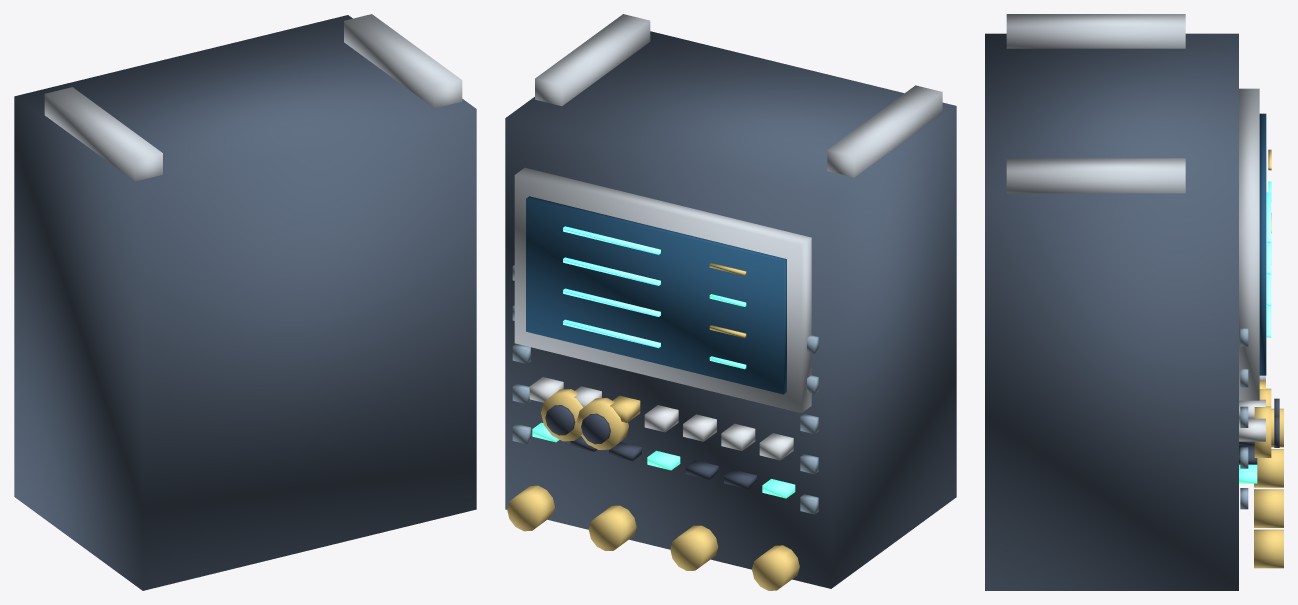
Rendered from L85_46_PrecisionFlightTimeReferenceClock_Fitted.fbx.
3 renders of one model, left to right at view 1: azimuth 30°, elevation 25°; view 2: azimuth 150°, elevation 25°; view 3: azimuth 270°, elevation 25°, orthographic. The views are drawn at different scales.
Visible parts, largest first — view 1: L85_PrecisionFlightTimeReferenceClock_Static__tint1A2434, L85_PrecisionFlightTimeReferenceClock_Static__tintA8B8C7; view 2: L85_PrecisionFlightTimeReferenceClock_Static__tint1A2434, L85_PrecisionFlightTimeReferenceClock_Static__tint071C3B, L85_PrecisionFlightTimeReferenceClock_Static__tintA8B8C7, L85_PrecisionFlightTimeReferenceClock_Static__tintF7B83D, L85_PrecisionFlightTimeReferenceClock_Static__tintCCD9E3, L85_PrecisionFlightTimeReferenceClock_Static__tint111724, L85_PrecisionFlightTimeReferenceClock_Static__tint2ED9FA, L85_PrecisionFlightTimeReferenceClock_Static__tint527391, L85_PrecisionFlightTimeReferenceClock_Static__tint24F09C; view 3: L85_PrecisionFlightTimeReferenceClock_Static__tint1A2434, L85_PrecisionFlightTimeReferenceClock_Static__tintA8B8C7, L85_PrecisionFlightTimeReferenceClock_Static__tintF7B83D, L85_PrecisionFlightTimeReferenceClock_Static__tint071C3B, L85_PrecisionFlightTimeReferenceClock_Static__tint527391, L85_PrecisionFlightTimeReferenceClock_Static__tintCCD9E3, L85_PrecisionFlightTimeReferenceClock_Static__tint2ED9FA, L85_PrecisionFlightTimeReferenceClock_Static__tint111724, L85_PrecisionFlightTimeReferenceClock_Static__tint24F09C.
Boxes of the visible parts, x1=… form: L85_PrecisionFlightTimeReferenceClock_Static__tint1A2434: x1=14, y1=15, x2=476, y2=590; L85_PrecisionFlightTimeReferenceClock_Static__tintA8B8C7: x1=44, y1=14, x2=462, y2=181; L85_PrecisionFlightTimeReferenceClock_Static__tint1A2434: x1=505, y1=31, x2=956, y2=588; L85_PrecisionFlightTimeReferenceClock_Static__tint071C3B: x1=526, y1=196, x2=786, y2=394; L85_PrecisionFlightTimeReferenceClock_Static__tintA8B8C7: x1=514, y1=14, x2=942, y2=413; L85_PrecisionFlightTimeReferenceClock_Static__tintF7B83D: x1=507, y1=263, x2=799, y2=590; L85_PrecisionFlightTimeReferenceClock_Static__tintCCD9E3: x1=529, y1=377, x2=793, y2=460; L85_PrecisionFlightTimeReferenceClock_Static__tint111724: x1=545, y1=405, x2=756, y2=488; L85_PrecisionFlightTimeReferenceClock_Static__tint2ED9FA: x1=563, y1=226, x2=660, y2=348; L85_PrecisionFlightTimeReferenceClock_Static__tint527391: x1=512, y1=265, x2=818, y2=514; L85_PrecisionFlightTimeReferenceClock_Static__tint24F09C: x1=532, y1=294, x2=795, y2=498; L85_PrecisionFlightTimeReferenceClock_Static__tint1A2434: x1=985, y1=33, x2=1238, y2=590; L85_PrecisionFlightTimeReferenceClock_Static__tintA8B8C7: x1=1006, y1=14, x2=1259, y2=400; L85_PrecisionFlightTimeReferenceClock_Static__tintF7B83D: x1=1254, y1=149, x2=1283, y2=568; L85_PrecisionFlightTimeReferenceClock_Static__tint071C3B: x1=1259, y1=113, x2=1266, y2=375; L85_PrecisionFlightTimeReferenceClock_Static__tint527391: x1=1240, y1=328, x2=1248, y2=509; L85_PrecisionFlightTimeReferenceClock_Static__tintCCD9E3: x1=1239, y1=375, x2=1265, y2=441; L85_PrecisionFlightTimeReferenceClock_Static__tint2ED9FA: x1=1266, y1=192, x2=1271, y2=337; L85_PrecisionFlightTimeReferenceClock_Static__tint111724: x1=1239, y1=398, x2=1279, y2=464; L85_PrecisionFlightTimeReferenceClock_Static__tint24F09C: x1=1239, y1=181, x2=1271, y2=483.
Size of the model in its own units: 9.2 by 11.13 by 7.22.
